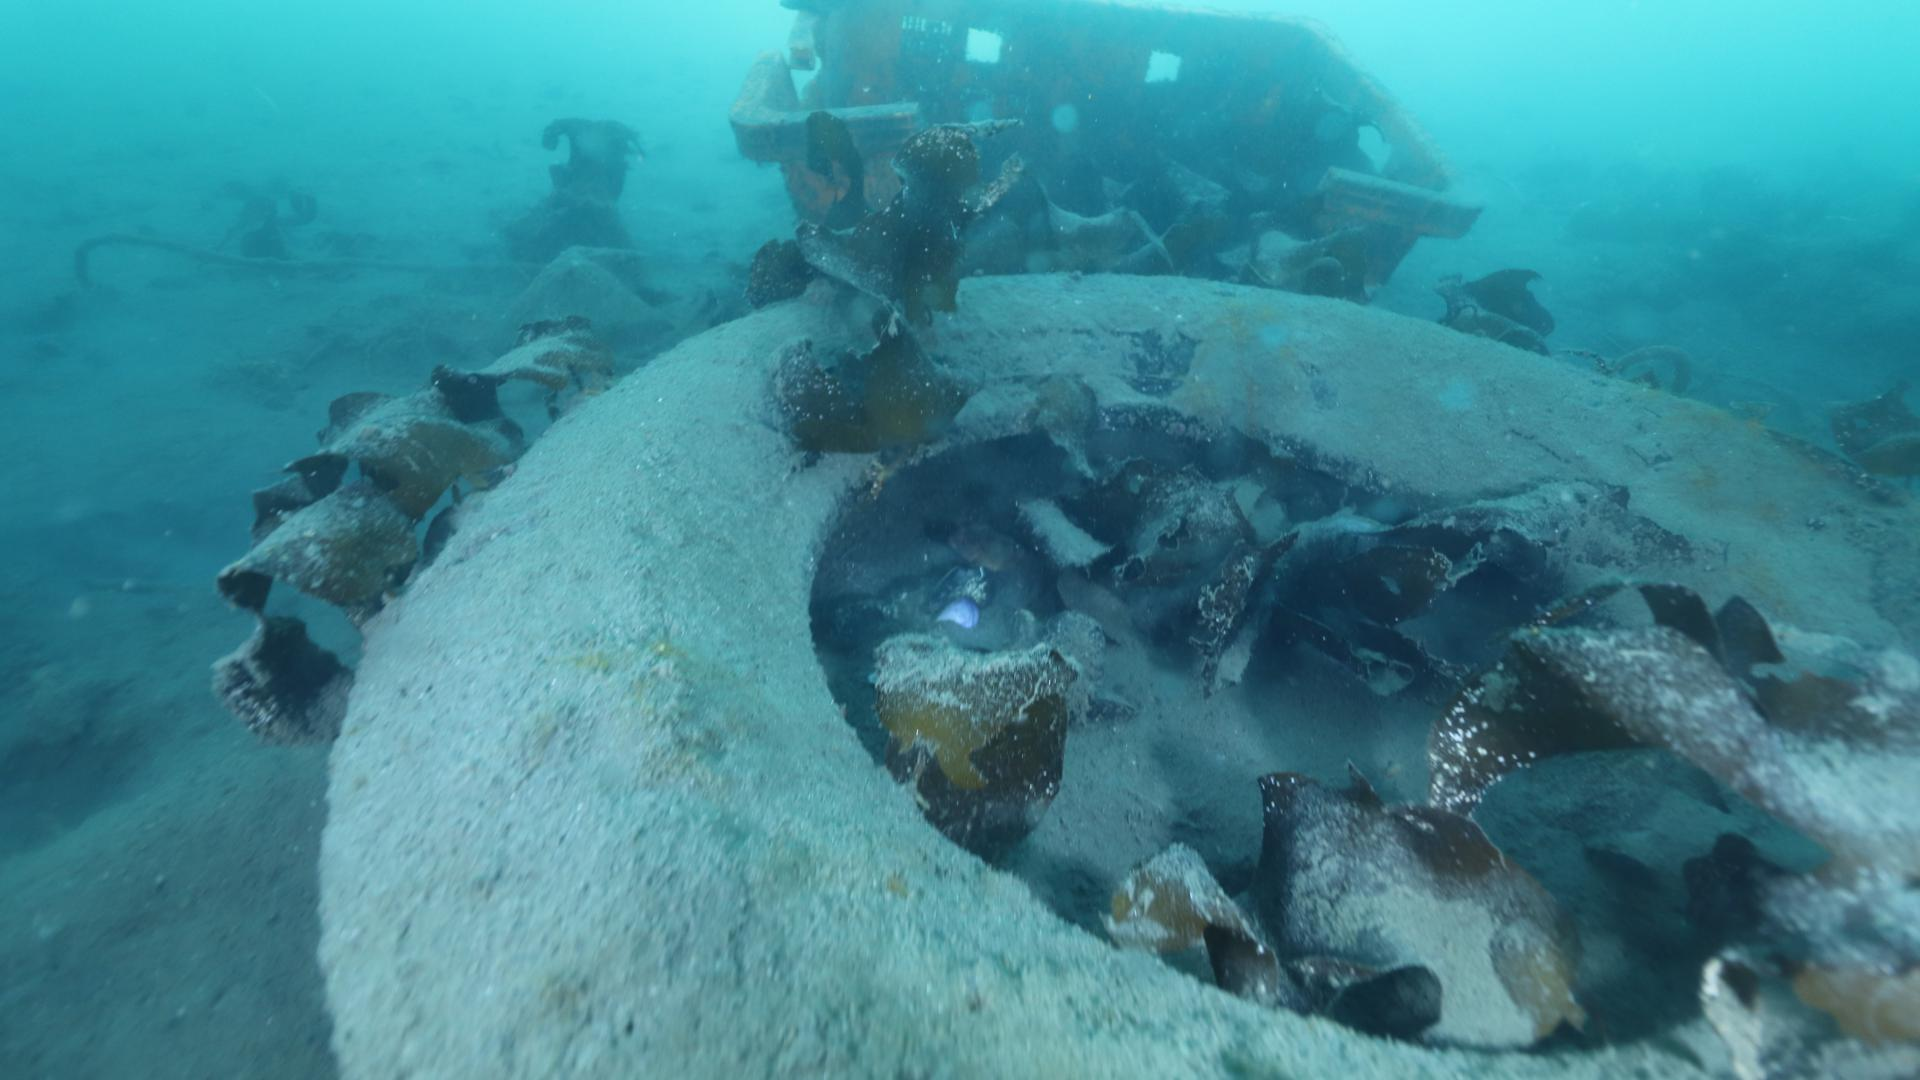tire: (316, 272, 1920, 1080)
